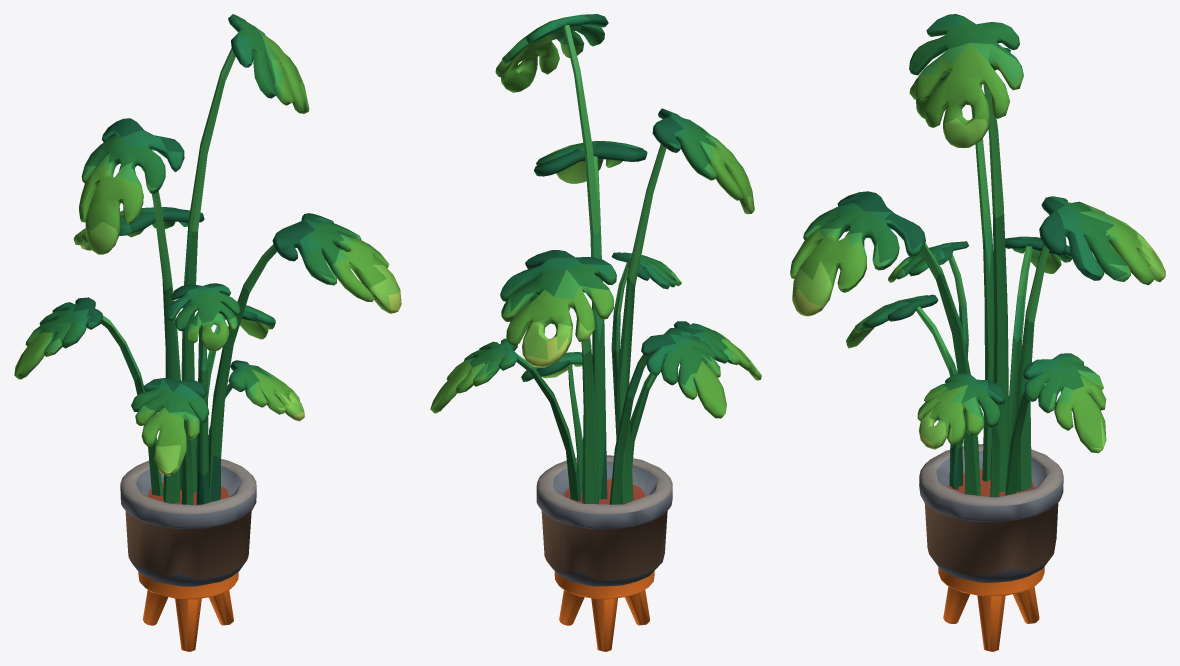
Rendered from planta_costela_adao_vaso_pe_pacote.glb.
3 views of the same model, side by side, from view 1: azimuth 30°, elevation 25°; view 2: azimuth 150°, elevation 25°; view 3: azimuth 270°, elevation 25° (orthographic). The views are drawn at different scales.
Visible parts, largest first — view 1: planta_costela_adao_vaso_pe_pacote; view 2: planta_costela_adao_vaso_pe_pacote; view 3: planta_costela_adao_vaso_pe_pacote.
Boxes of the visible parts, x1,y1,x2,y2 form: planta_costela_adao_vaso_pe_pacote: (14,14,401,651); planta_costela_adao_vaso_pe_pacote: (430,14,761,651); planta_costela_adao_vaso_pe_pacote: (790,14,1165,651).
Bounding box in the file's own units: 1.14 × 2.37 × 1.27.
Materials: 1 (1 with a texture image).
